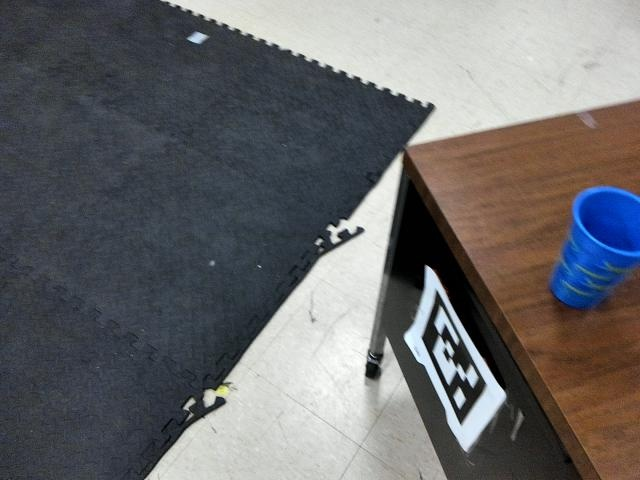water_cup: (545, 183, 640, 319)
